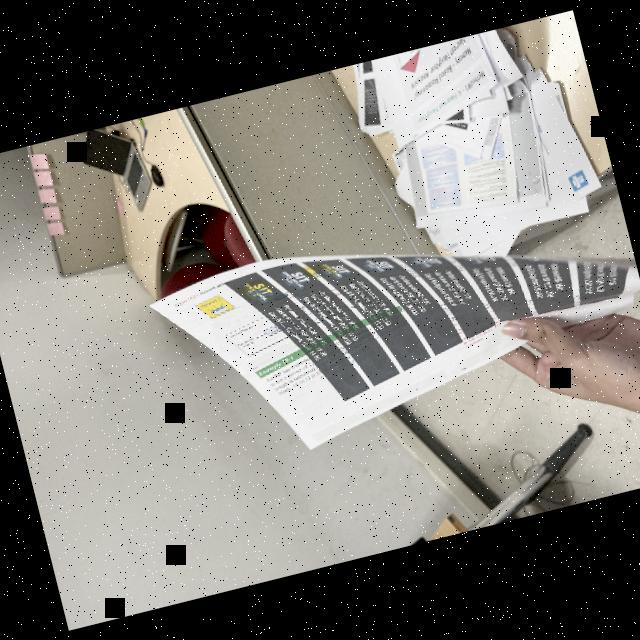reuseable_paper: (141, 172, 640, 482), (337, 14, 608, 276)
